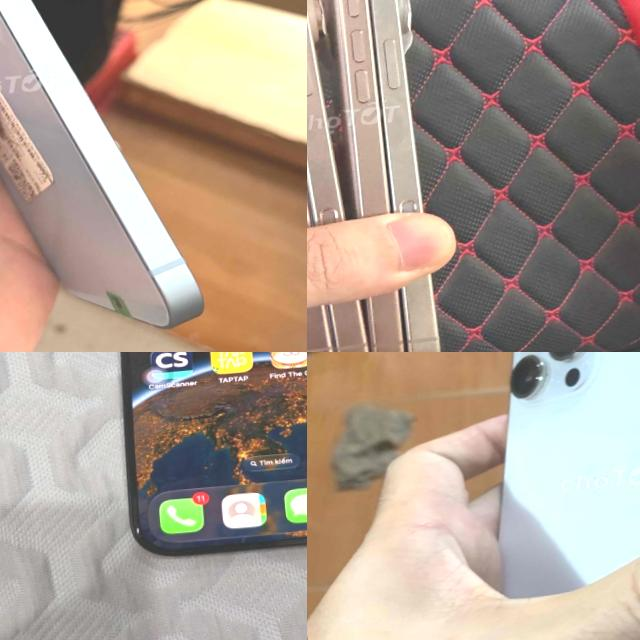scratch: (134, 526, 139, 534)
